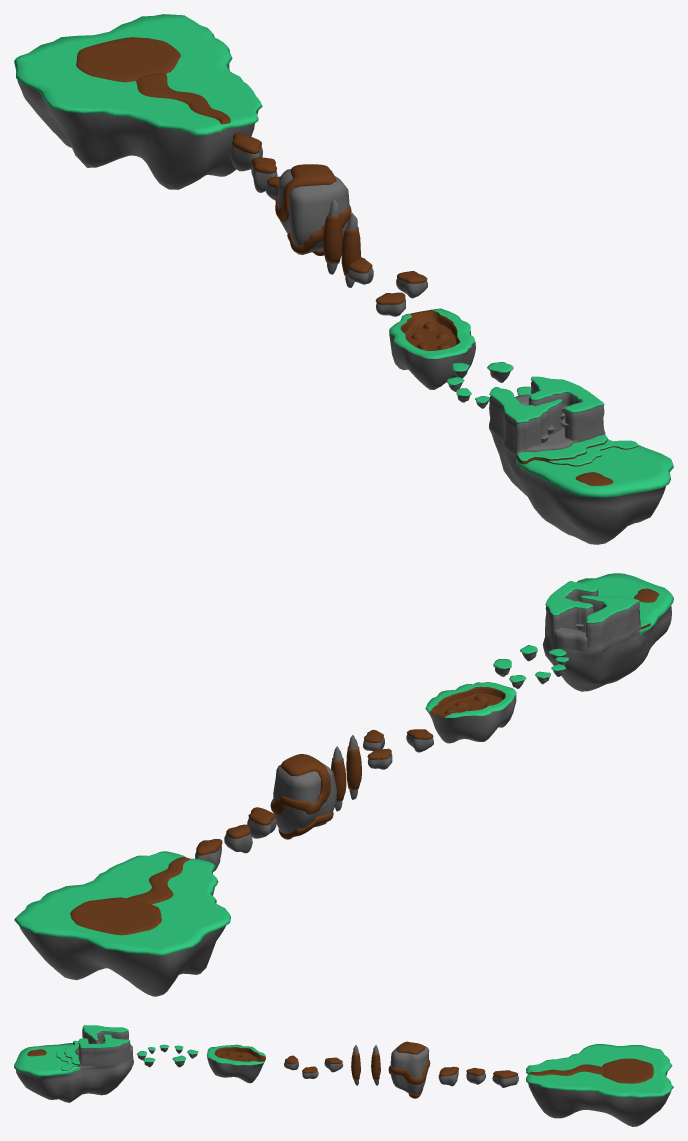
The model's file is Level_1_Layout.fbx.
3 views of the same model, one above another, from view 1: azimuth 30°, elevation 25°; view 2: azimuth 150°, elevation 25°; view 3: azimuth 270°, elevation 25° (orthographic). The views are drawn at different scales.
Parts seen in each view (by area): view 1: IslandEndingArea_Model, IslandStartingArea_Model, WallsStartingArea_Model, IslandEndingAreaTreePlace_Model, IslandMudAreaStone_Model, IslandBiglMudStone_Model, StepsStartingArea_Model, IslandBiglMudDirt_Model, IslandEndingAreaPath_Model, IslandMudAreaDirt_Model, IslandSmallMud_Model.005, PillarMudAreaDirt_Model.001; view 2: IslandEndingArea_Model, IslandStartingArea_Model, WallsStartingArea_Model, IslandMudAreaStone_Model, IslandEndingAreaTreePlace_Model, IslandBiglMudStone_Model, IslandBiglMudDirt_Model, IslandMudAreaDirt_Model, IslandEndingAreaPath_Model, IslandSmallMud_Model.003, IslandSmallMud_Model.004; view 3: IslandEndingArea_Model, IslandStartingArea_Model, WallsStartingArea_Model, IslandMudAreaStone_Model, IslandBiglMudStone_Model, IslandEndingAreaTreePlace_Model, IslandBiglMudDirt_Model, StepsStartingArea_Model, IslandMudAreaDirt_Model, IslandEndingAreaPath_Model, IslandSmallMud_Model.005, IslandSmallMud_Model.003 (+5 smaller).
Part boxes in pixels (box(x1,y1,x2,y2)): IslandEndingArea_Model: box(14, 14, 262, 189); IslandStartingArea_Model: box(489, 428, 673, 544); WallsStartingArea_Model: box(489, 376, 604, 451); IslandEndingAreaTreePlace_Model: box(76, 37, 180, 82); IslandMudAreaStone_Model: box(389, 308, 475, 389); IslandBiglMudStone_Model: box(278, 169, 349, 254); StepsStartingArea_Model: box(489, 422, 637, 466); IslandBiglMudDirt_Model: box(275, 164, 351, 255); IslandEndingAreaPath_Model: box(136, 72, 230, 124); IslandMudAreaDirt_Model: box(400, 309, 460, 350); IslandSmallMud_Model.005: box(230, 133, 262, 171); PillarMudAreaDirt_Model.001: box(323, 213, 342, 263); IslandEndingArea_Model: box(14, 851, 230, 996); IslandStartingArea_Model: box(542, 573, 673, 691); WallsStartingArea_Model: box(545, 581, 640, 647); IslandMudAreaStone_Model: box(425, 682, 516, 743); IslandEndingAreaTreePlace_Model: box(70, 897, 161, 935); IslandBiglMudStone_Model: box(273, 763, 336, 833); IslandBiglMudDirt_Model: box(270, 754, 333, 839); IslandMudAreaDirt_Model: box(430, 686, 505, 717); IslandEndingAreaPath_Model: box(127, 857, 190, 904); IslandSmallMud_Model.003: box(247, 807, 276, 838); IslandSmallMud_Model.004: box(224, 824, 252, 853); IslandEndingArea_Model: box(526, 1044, 673, 1126); IslandStartingArea_Model: box(14, 1043, 133, 1102); WallsStartingArea_Model: box(78, 1025, 130, 1063); IslandMudAreaStone_Model: box(206, 1044, 265, 1083); IslandBiglMudStone_Model: box(390, 1044, 429, 1094); IslandEndingAreaTreePlace_Model: box(602, 1058, 653, 1083); IslandBiglMudDirt_Model: box(388, 1041, 430, 1098); StepsStartingArea_Model: box(56, 1040, 132, 1070); IslandMudAreaDirt_Model: box(214, 1047, 265, 1061); IslandEndingAreaPath_Model: box(529, 1064, 603, 1075); IslandSmallMud_Model.005: box(492, 1070, 518, 1087); IslandSmallMud_Model.003: box(438, 1066, 458, 1086).
Bounding box in the file's own units: 13251 × 7309 × 66347.
